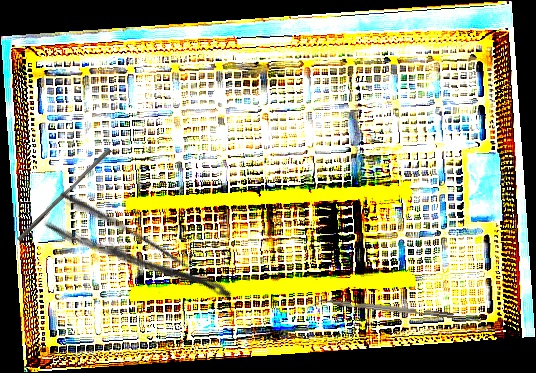Chopper: (310, 295, 454, 326)
Dressing Forceps: (41, 187, 237, 329)
Pusher: (16, 144, 113, 246)
